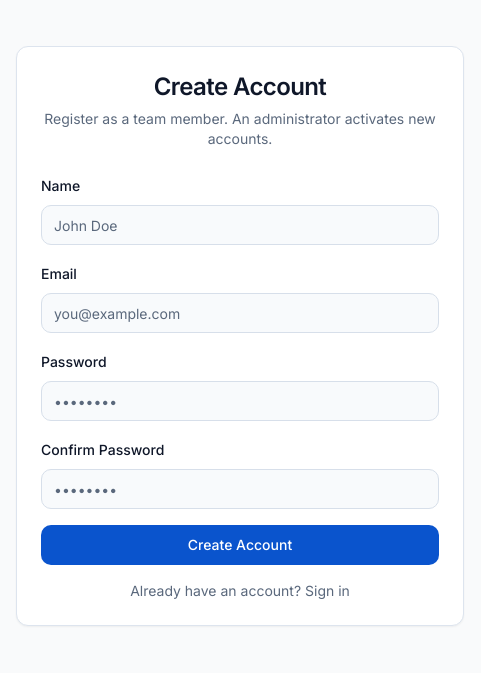
Scenario: authentication pages › shows a server message when registration is rejected
Step 1. Type "Asha Perera" into the field labelled "Name" → (240,225), box [41,205,439,245]
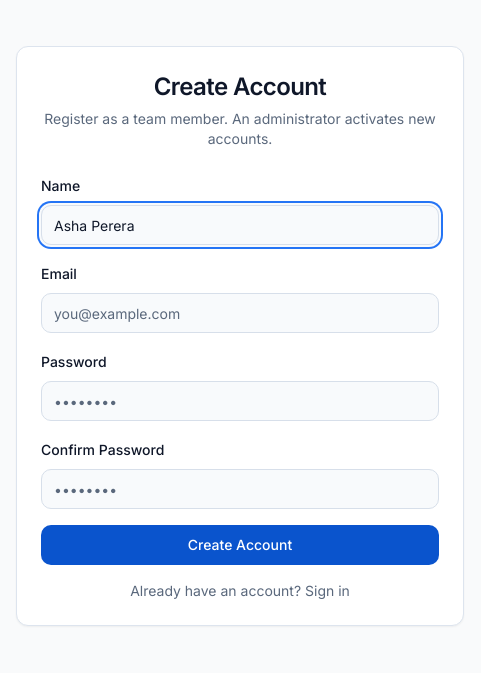
Step 2. Type "asha@example.com" into the field labelled "Email" → (240,313), box [41,293,439,333]
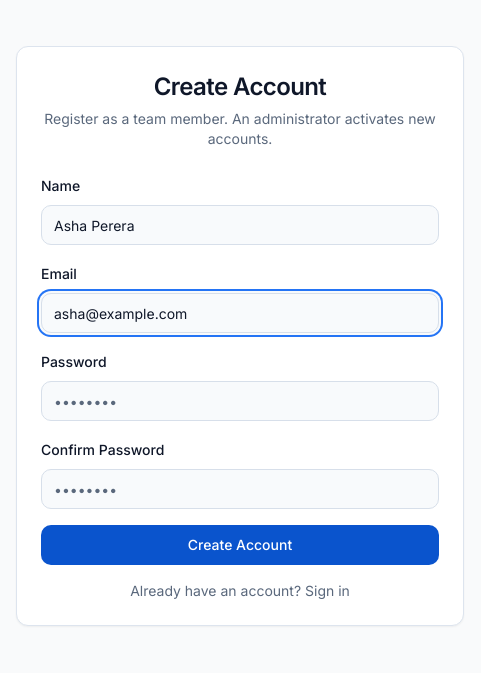
Step 3. Type "password123" into the password field labelled "Password" → (240,401), box [41,381,439,421]
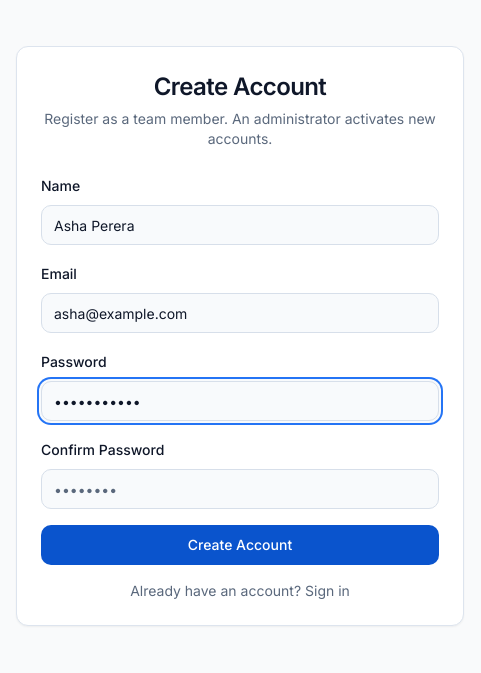
Step 4. Type "password123" into the password field labelled "Confirm Password" → (240,489), box [41,469,439,509]
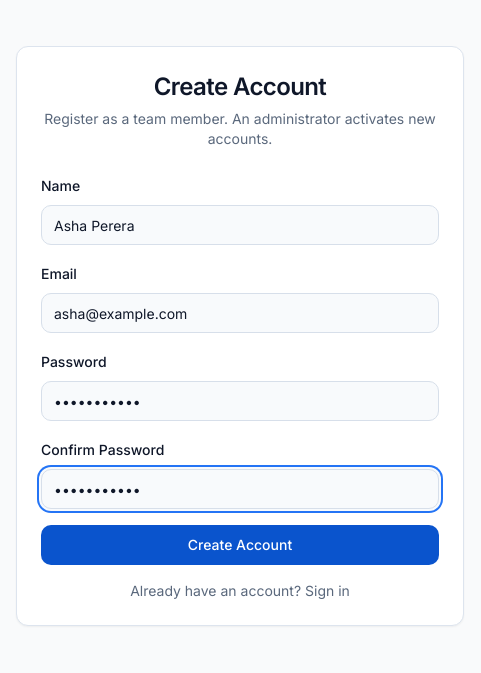
Step 5. Click the button "Create Account" → (240,545), box [41,525,439,565]
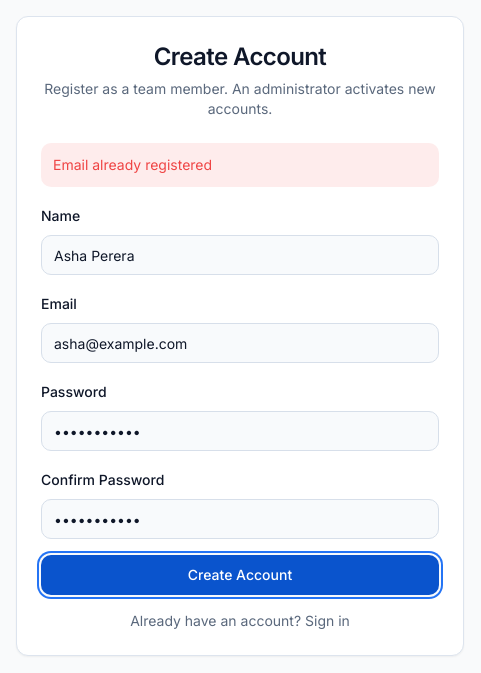
Check: the text "Email already registered" is shown, box [41,143,439,187]
